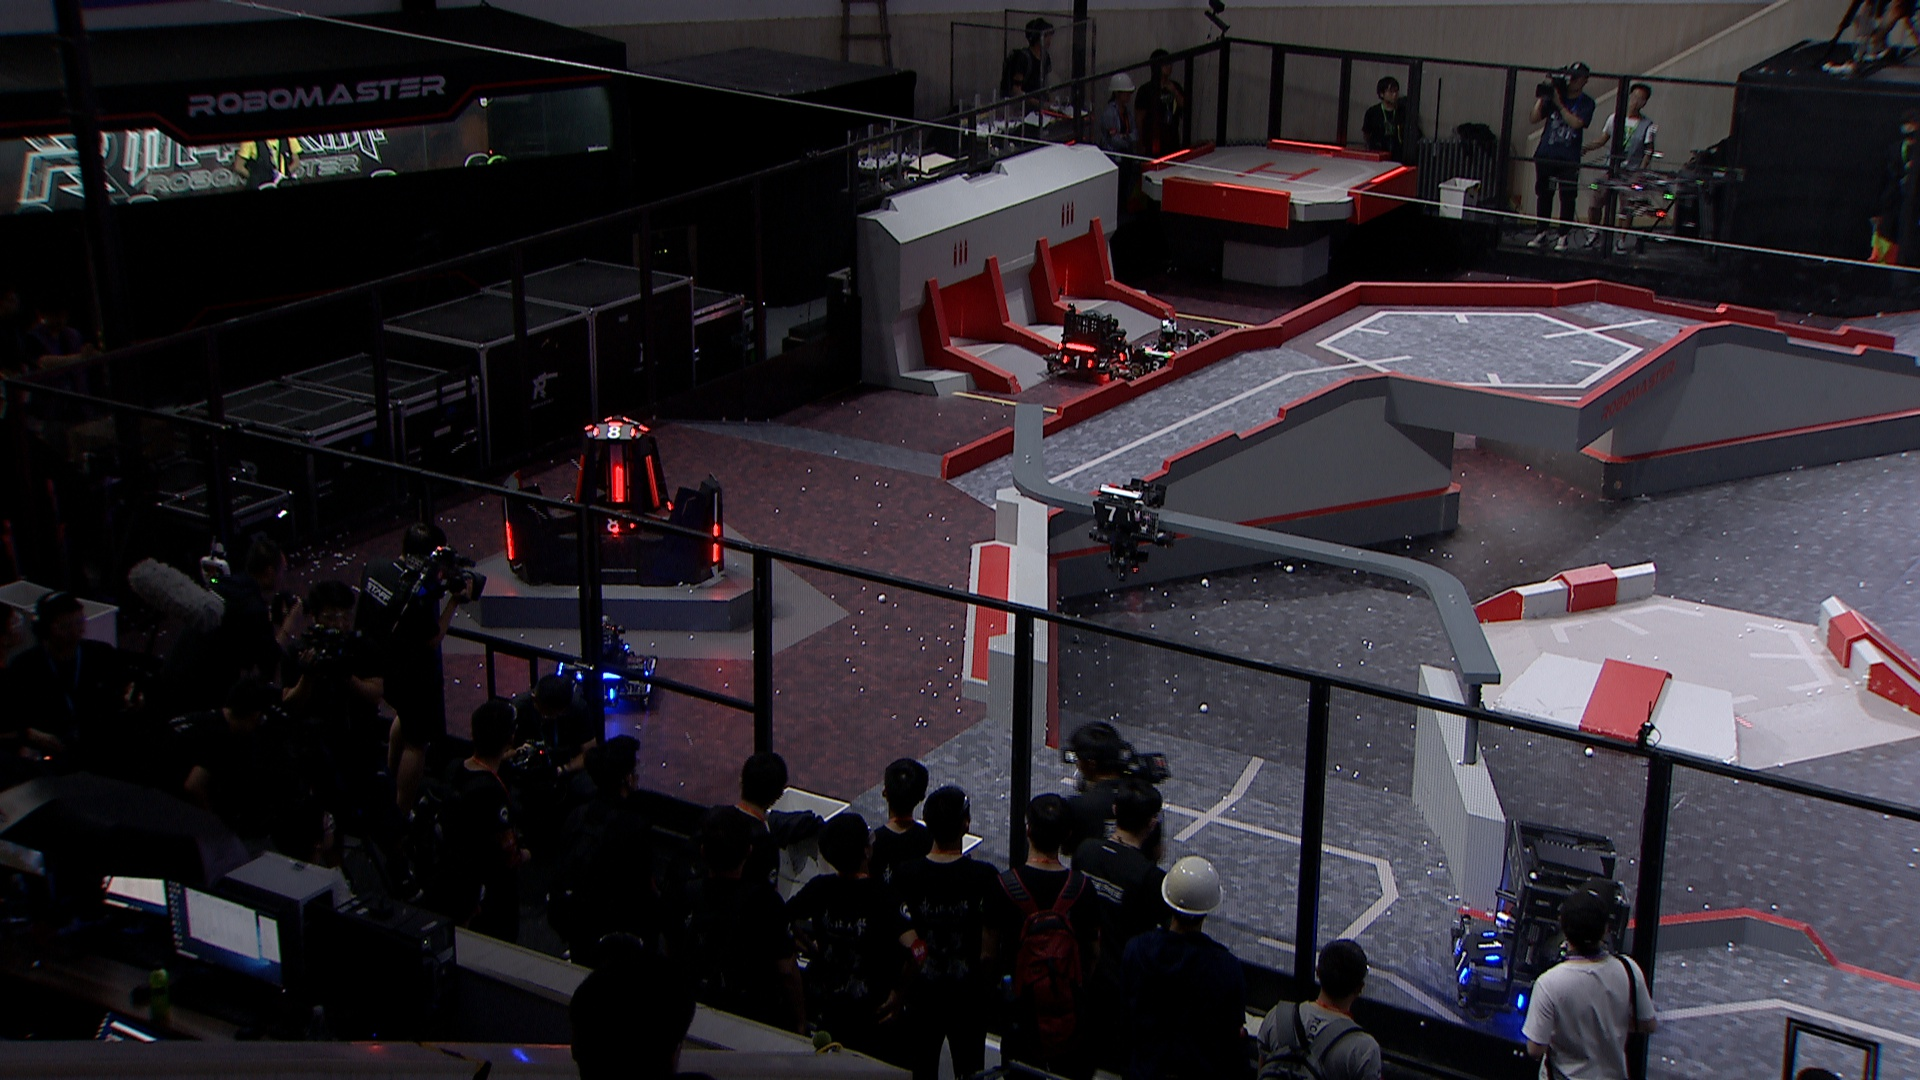armor: (642, 452, 661, 510), (1088, 502, 1133, 526), (1449, 938, 1472, 984), (570, 454, 588, 506), (1476, 931, 1503, 965), (605, 463, 628, 504), (589, 423, 641, 440), (500, 516, 518, 562), (597, 517, 638, 535), (708, 520, 724, 566), (1059, 352, 1096, 372), (1117, 344, 1138, 363), (1145, 357, 1163, 373)
base: (496, 417, 724, 589)
car: (1448, 820, 1633, 1026), (547, 615, 661, 712), (1040, 302, 1138, 382), (1129, 318, 1200, 382)
watcher: (1087, 477, 1174, 579)
